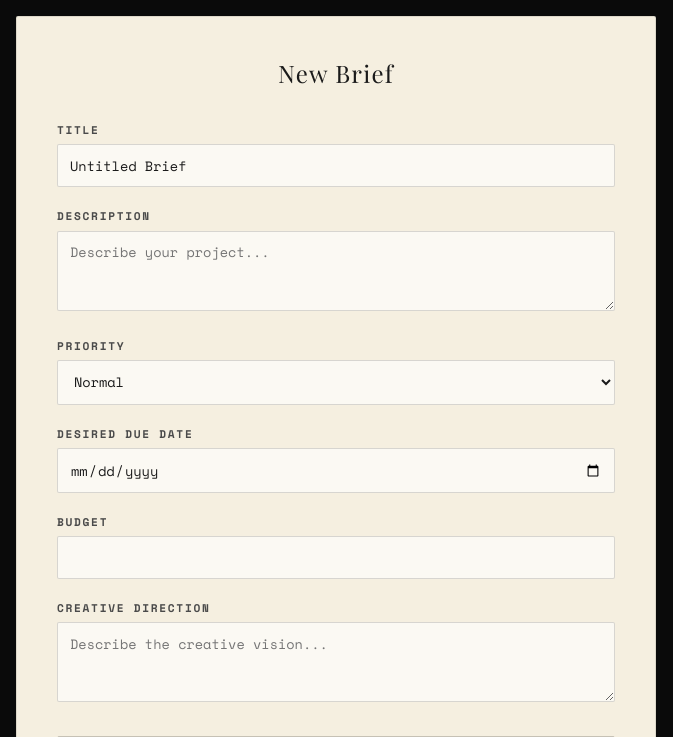
Test case: NewBriefPage › shows "Saved" indicator after successful autosave
// Type to trigger autosave
In the field labelled "Title": x=336, y=166 [57,144,615,187], type "Done"
Wait 2000 ms
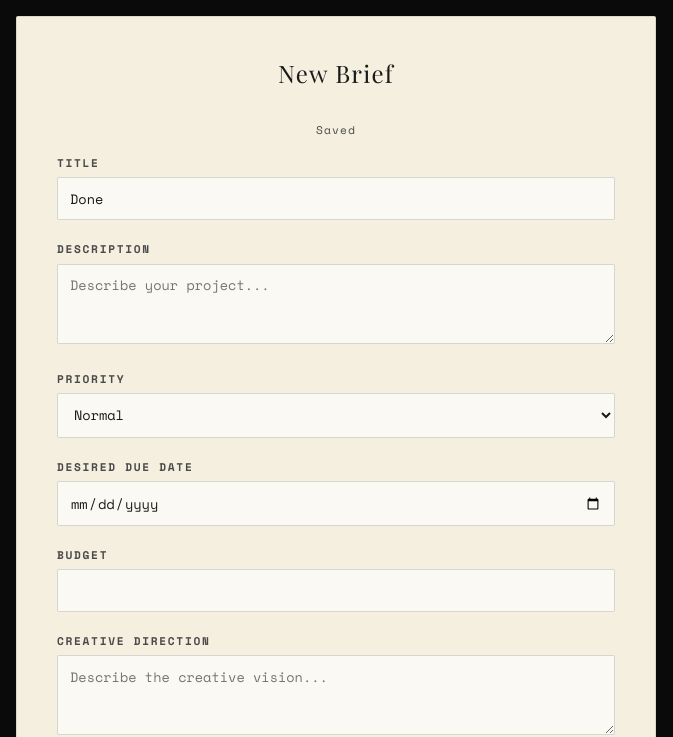
Now the text "Saved" is shown, box [316,121,356,138]
